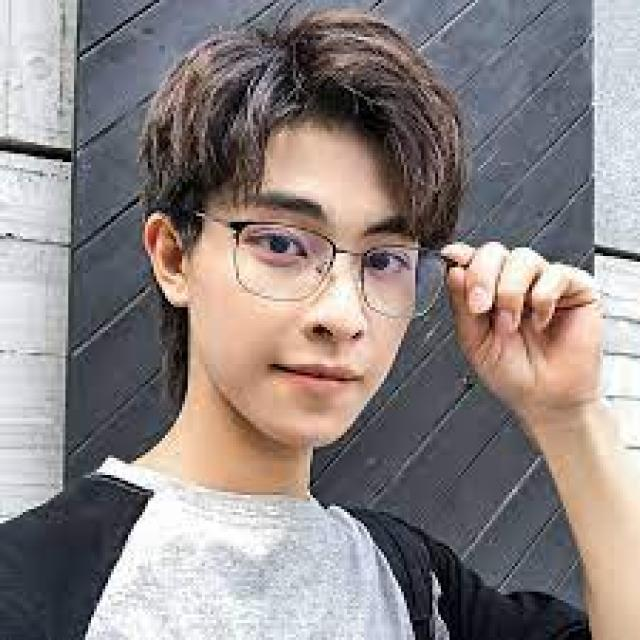Glasses: (185, 210, 458, 324)
